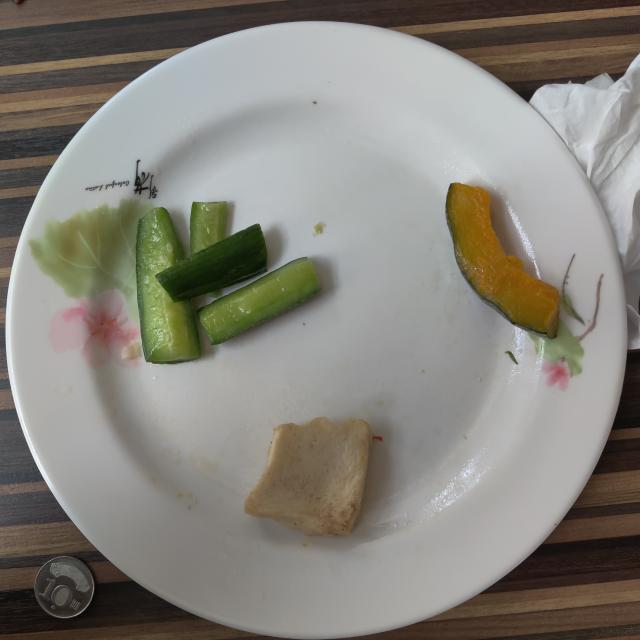coin: (35, 556, 95, 619)
creamy tofu -without sauce-: (245, 418, 372, 536)
cucumber: (136, 201, 268, 364), (199, 258, 320, 344)
pumpkin: (446, 182, 560, 339)
